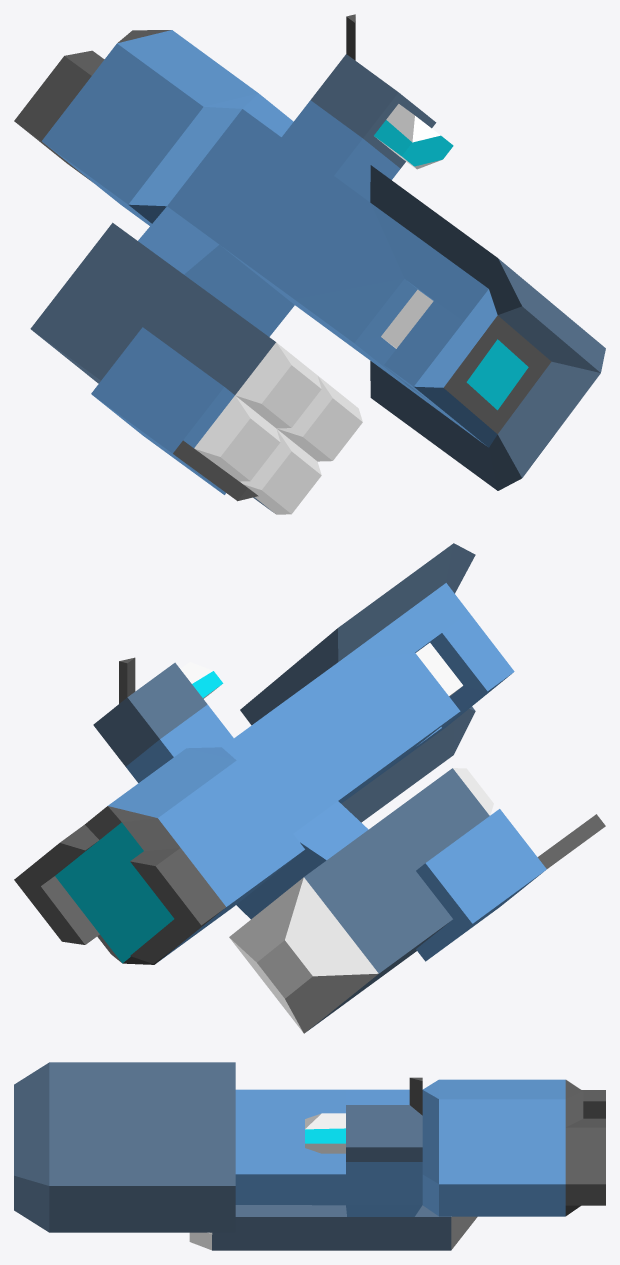
File: block_frigate_launcher.fbx
3 views of the same model, one above another, from view 1: azimuth 30°, elevation 25°; view 2: azimuth 150°, elevation 25°; view 3: azimuth 270°, elevation 25° (orthographic). The views are drawn at different scales.
Parts seen in each view (by area): view 1: block_frigate_launcher; view 2: block_frigate_launcher; view 3: block_frigate_launcher.
Part boxes in pixels (x1,y1,x2,y2): block_frigate_launcher: [14, 14, 605, 514]; block_frigate_launcher: [14, 543, 605, 1033]; block_frigate_launcher: [14, 1062, 605, 1250].
Size of the model in its own units: 23.7 by 21.73 by 46.8.
1 material, 1 textured.
